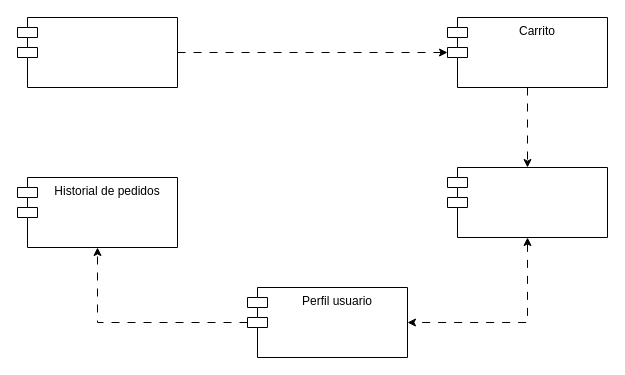
Some shapes in this 625 by 375 pixel diagram are drawn without their labels. The centre of each missing label's shape, as x and y in pixels:
"Busqueda y Catalogo de productos" belongs at point 97,52.
"Pago" belongs at point 527,202.
